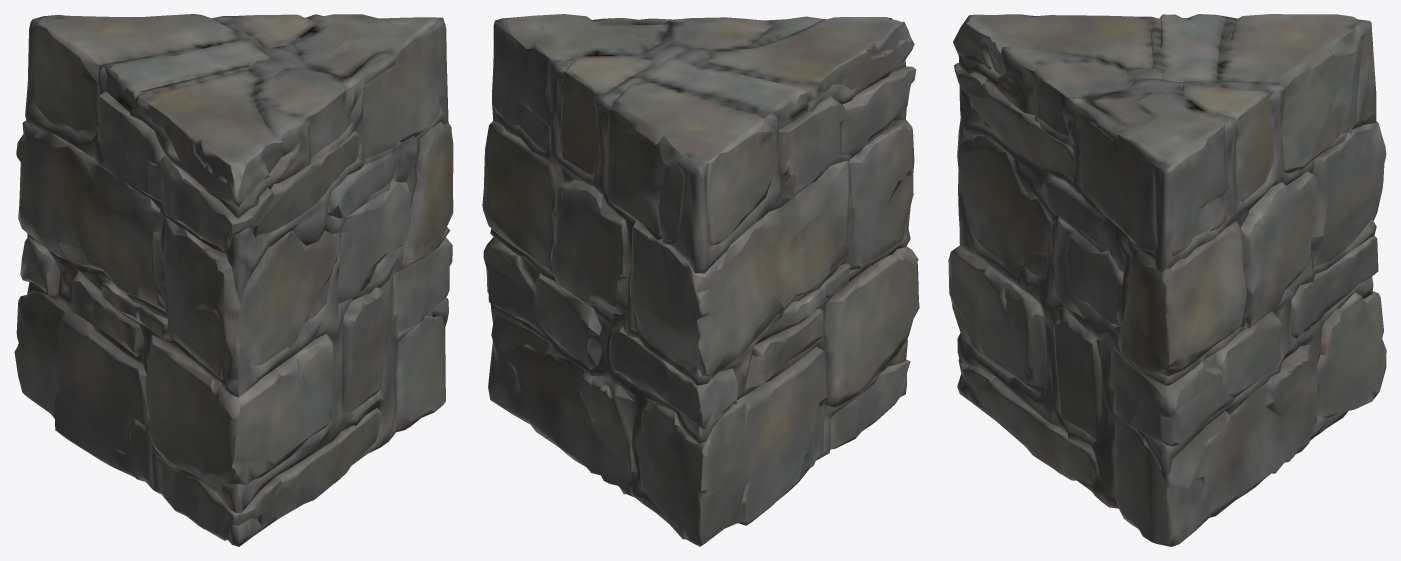
File: BP_TriFoundation_Stone_C.glb
3 views of the same model, side by side, from view 1: azimuth 30°, elevation 25°; view 2: azimuth 150°, elevation 25°; view 3: azimuth 270°, elevation 25° (orthographic).
Visible parts, largest first — view 1: SM_Stone_FloorTriangle; view 2: SM_Stone_FloorTriangle; view 3: SM_Stone_FloorTriangle.
Part boxes in pixels (x1=…): SM_Stone_FloorTriangle: x1=14, y1=14, x2=453, y2=546; SM_Stone_FloorTriangle: x1=482, y1=14, x2=919, y2=546; SM_Stone_FloorTriangle: x1=948, y1=14, x2=1386, y2=546.
Size of the model in its own units: 2.79 by 3.12 by 3.17.
1 material, 1 textured.
